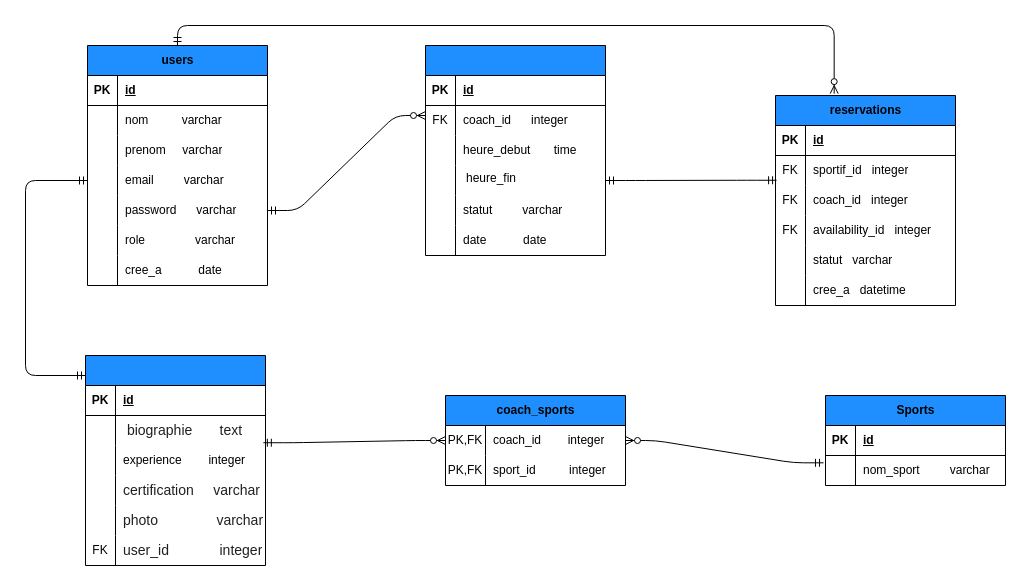
This 1023x583 diagram has some shape labels left out. The shapes that lost their labels are listed below. From the top down, each one's box as (x1, y1, x2, y2) in pixels, then its label:
(424, 44, 606, 256): Disponibilités
(84, 354, 266, 566): coach_profile
